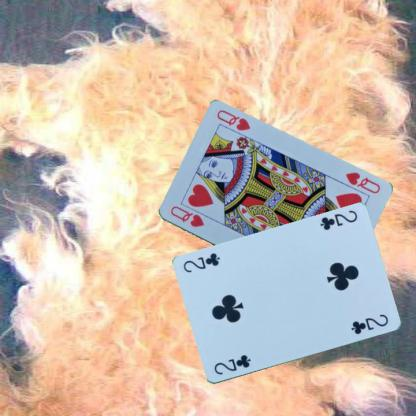2c: (317, 208, 359, 232), (211, 353, 252, 376)
Qh: (167, 203, 205, 229), (343, 170, 381, 196)
